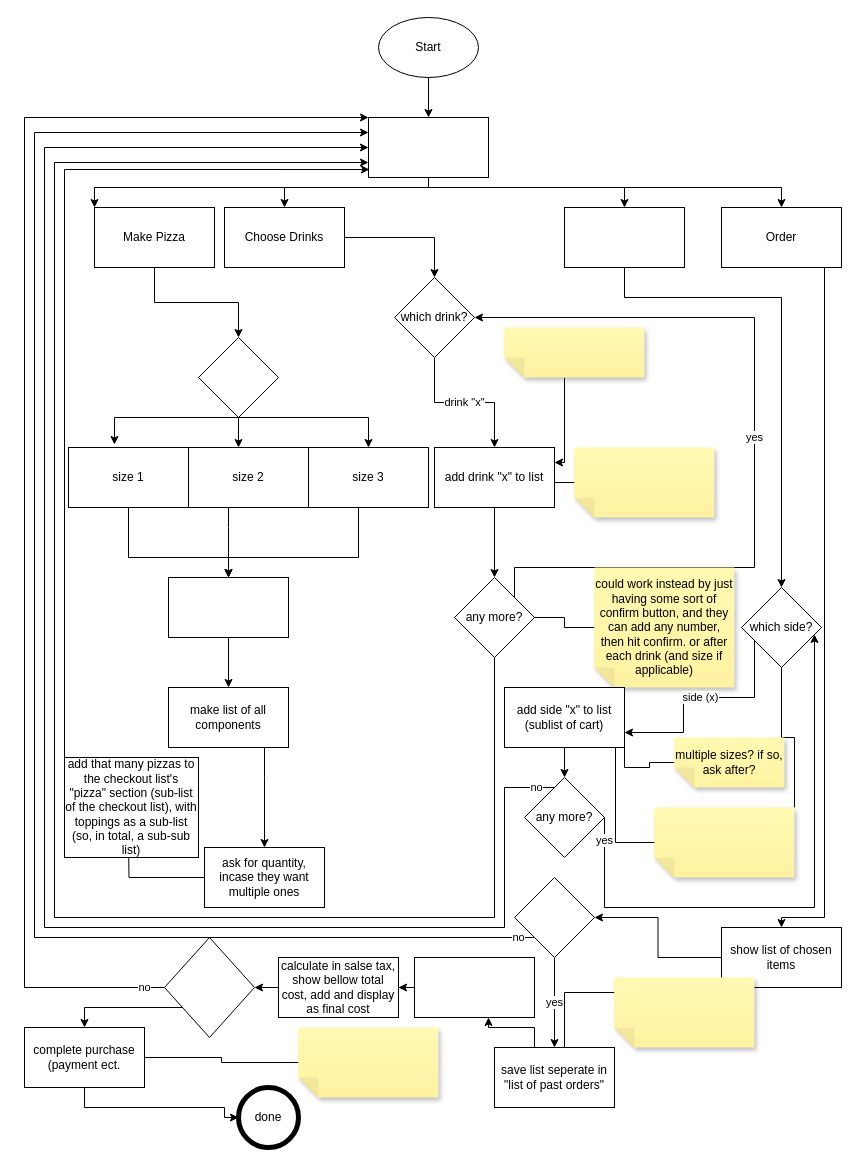
Some shapes in this 859 by 1167 pixel diagram are drawn without their labels. Each missing label, with the centre of its shape:
"account? save to account if applicable?" goes at pixel 685 1013.
"ask which topping(s) they want" goes at pixel 228 607.
"Choose Side" goes at pixel 624 237.
"confirm order? (double check items, make sure price is fine)" goes at pixel 209 987.
"done making order?" goes at pixel 554 917.
"go to choices" goes at pixel 428 147.
"multiple drink sizes?" goes at pixel 575 353.
"multiple drinks, multiple boxes? use list instead of multiple boxes for drinks?" goes at pixel 645 483.
"multiple pickup types (in-resturant, curbside, drop off)? choose? where?" goes at pixel 369 1063.
"take item prices, calculate total price" goes at pixel 474 987.
"use 1 box per side? choice of some sort? combo?" goes at pixel 725 843.
"Which Size?" goes at pixel 238 377.
